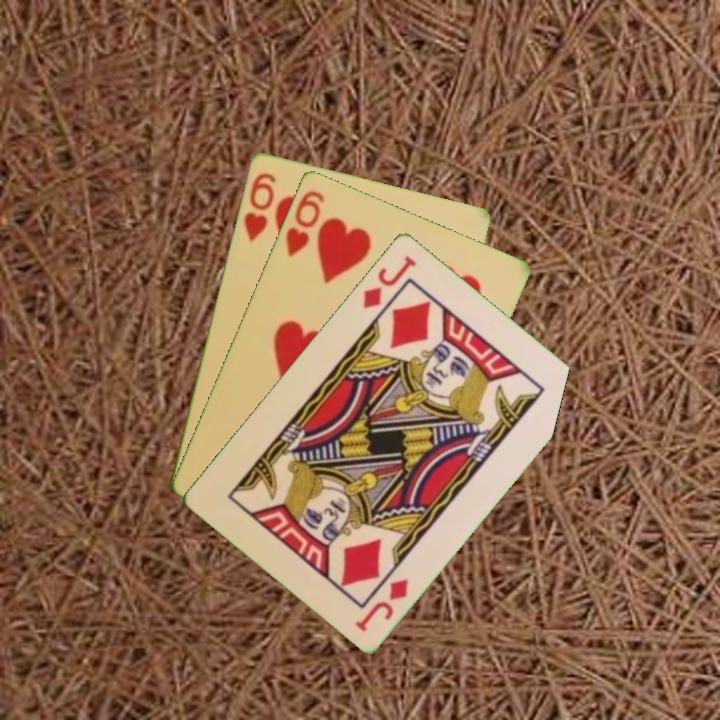6h: (282, 186, 328, 259), (240, 168, 279, 244)
Jd: (351, 574, 412, 635), (359, 251, 419, 311)
